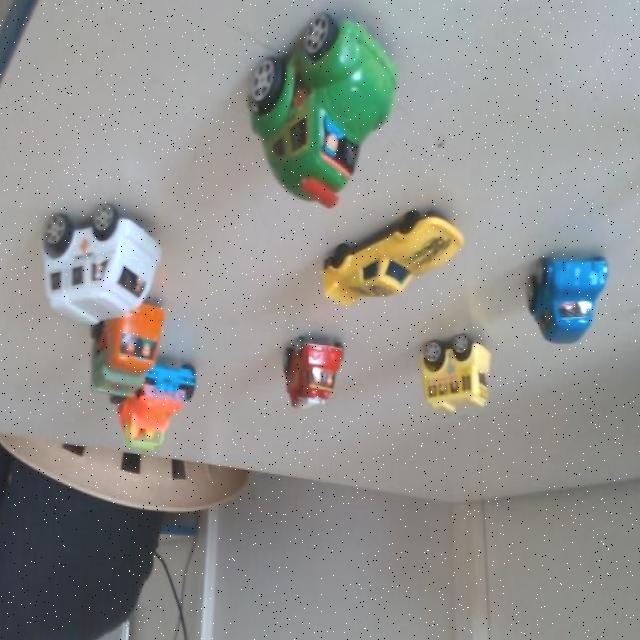car: (245, 9, 408, 204), (42, 180, 175, 344), (328, 199, 457, 317), (413, 321, 496, 418), (127, 358, 203, 457), (96, 294, 160, 407), (535, 250, 609, 347), (274, 321, 344, 422)
